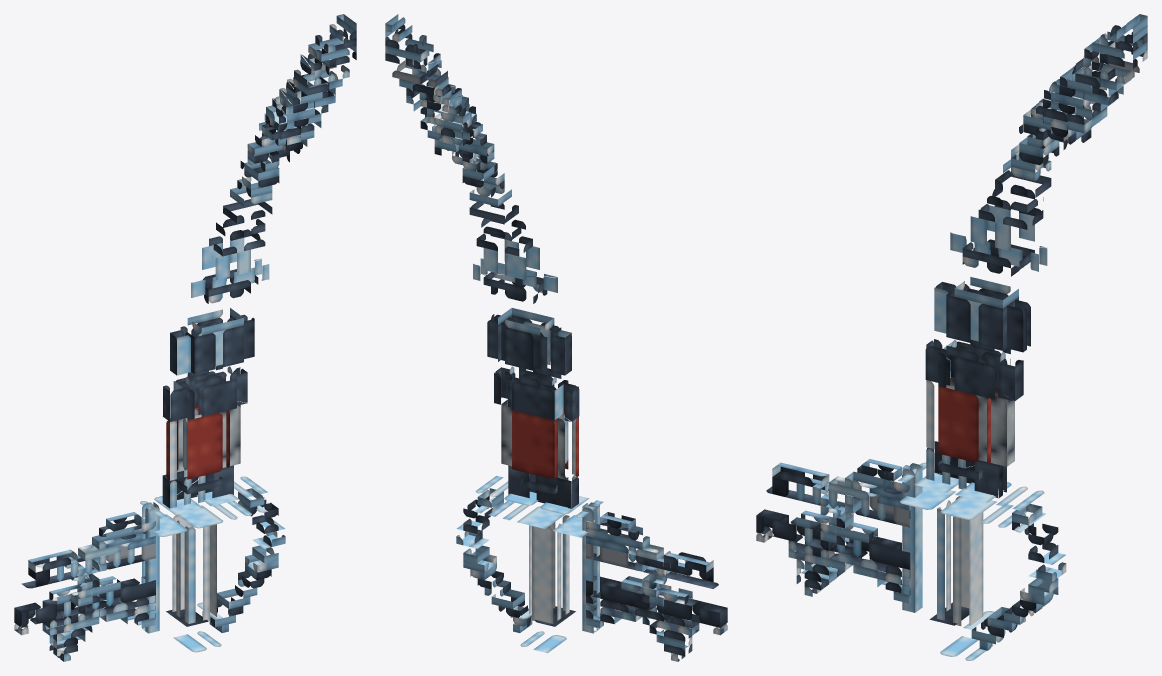
The model's file is marshals_sabre.obj.
3 views of the same model, side by side, from view 1: azimuth 30°, elevation 25°; view 2: azimuth 150°, elevation 25°; view 3: azimuth 330°, elevation 25° (orthographic). The views are drawn at different scales.
Visible parts, largest first — view 1: lit; view 2: lit; view 3: lit.
Part boxes in pixels (x1,y1,x2,y2): lit: (14, 14, 356, 661); lit: (385, 14, 727, 661); lit: (756, 14, 1147, 660).
Size of the model in its own units: 1.47 by 2.48 by 0.175.
